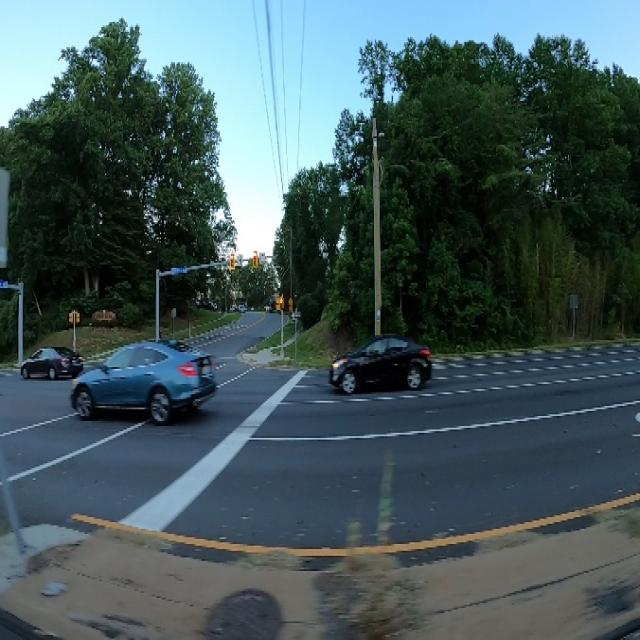car: (64, 337, 222, 431), (326, 332, 437, 406), (8, 345, 83, 384)
